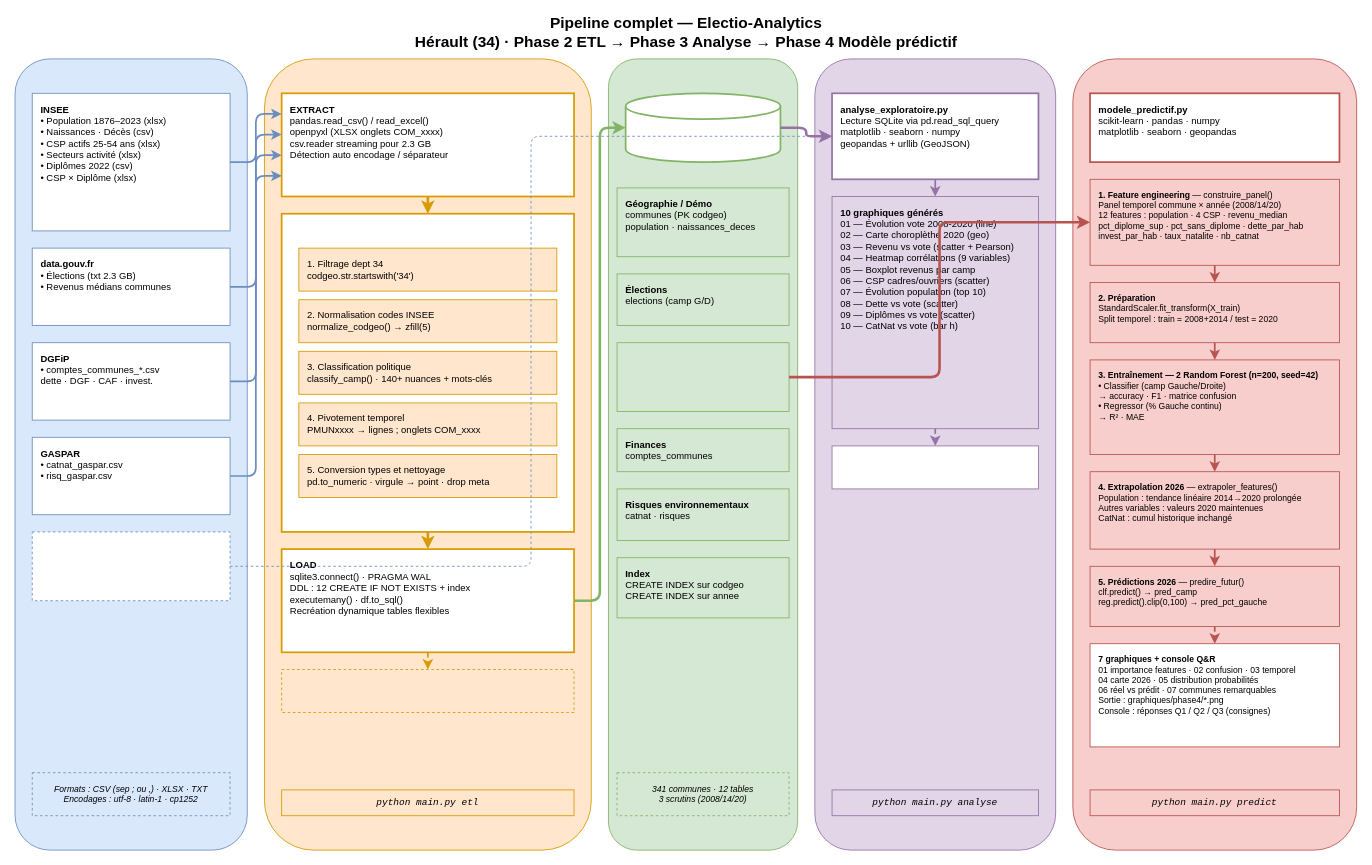
Some shapes in this 1372 by 865 pixel diagram are drawn without their labels. Here are the shapes that lost their labels. From the top down, the box of each, then its label:
(624, 92, 781, 163): SQLite electio_herault.db
(280, 212, 574, 532): TRANSFORM
(616, 342, 789, 412): Socio-éco revenus · csp · diplomes secteurs_activite · csp_diplome
(14, 58, 247, 850): Sources
(264, 58, 591, 850): Phase 2 — ETL
(608, 58, 798, 850): Stockage
(831, 445, 1038, 489): Sortie graphiques/phase3/*.png
(814, 58, 1056, 850): Phase 3 — Analyse exploratoire
(1072, 58, 1357, 850): Phase 4 — Modèle prédictif
(31, 531, 230, 601): france-geojson (GitHub) Téléchargé via urllib communes-34-herault.geojson
(281, 669, 574, 713): VALIDATE — fonction validate() Comptages tables · check FK communes ↔ elections
